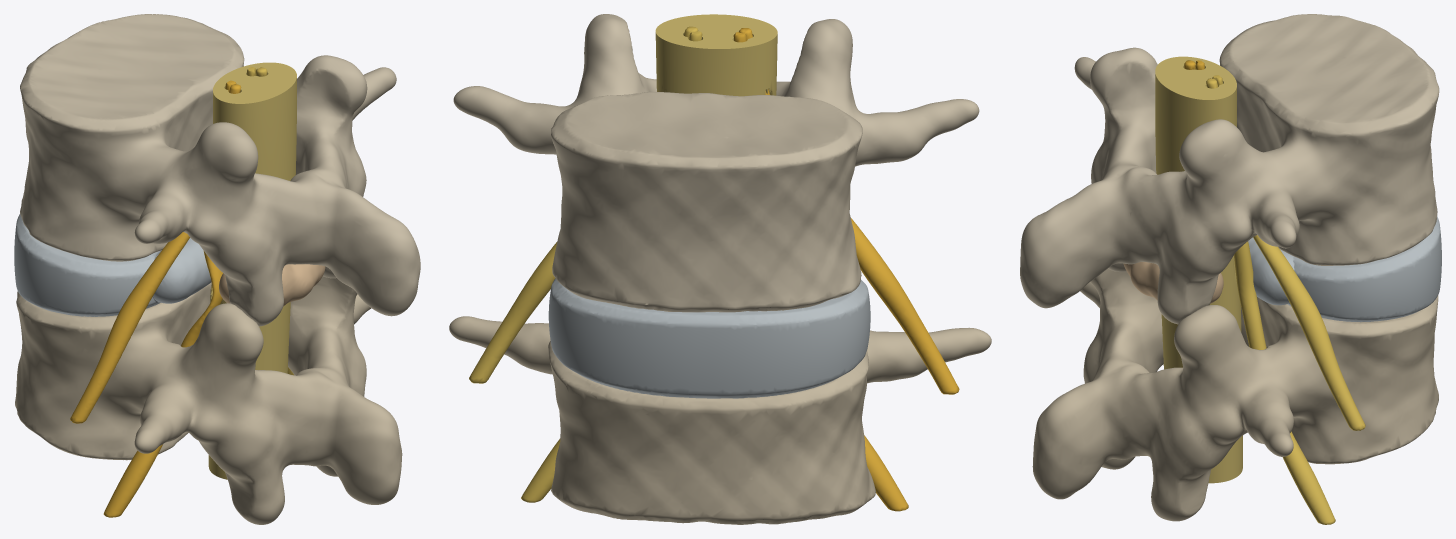
File: spine_stenosis.glb
3 views of the same model, side by side, from view 1: azimuth 30°, elevation 25°; view 2: azimuth 150°, elevation 25°; view 3: azimuth 270°, elevation 25° (orthographic). The views are drawn at different scales.
Visible parts, largest first — view 1: l4_vertebra, l5_vertebra, annulus_fibrosus, thecal_sac, l4_nerve_root_left, l5_nerve_root_left, ligamentum_flavum; view 2: l4_vertebra, l5_vertebra, annulus_fibrosus, thecal_sac, nerve_roots, l4_nerve_root_left, l5_nerve_root_left; view 3: l4_vertebra, l5_vertebra, annulus_fibrosus, thecal_sac, nerve_roots, ligamentum_flavum.
Part boxes in pixels (x1,y1,x2,y2): l4_vertebra: (20,14,420,326); l5_vertebra: (15,276,402,524); annulus_fibrosus: (14,214,211,316); thecal_sac: (208,62,296,479); l4_nerve_root_left: (70,84,241,423); l5_nerve_root_left: (103,80,236,517); ligamentum_flavum: (219,264,325,306); l4_vertebra: (453,14,979,312); l5_vertebra: (449,316,991,524); annulus_fibrosus: (548,278,870,398); thecal_sac: (655,14,777,96); nerve_roots: (469,26,702,502); l4_nerve_root_left: (739,28,959,394); l5_nerve_root_left: (733,32,908,511); l4_vertebra: (1020,14,1439,324); l5_vertebra: (1032,268,1438,521); annulus_fibrosus: (1248,216,1441,322); thecal_sac: (1155,56,1242,483); nerve_roots: (1206,75,1365,524); ligamentum_flavum: (1123,262,1223,303).
Size of the model in its own units: 7.95 by 7.92 by 7.36.
